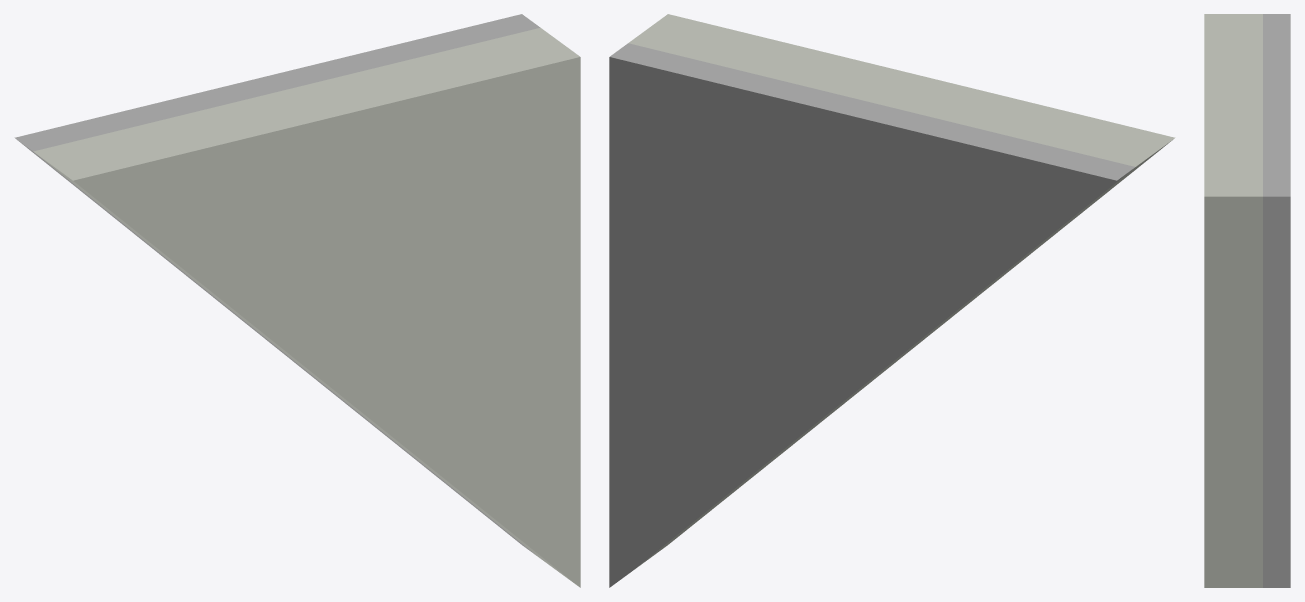
The model's file is floor_triangle.fbx.
3 views of the same model, side by side, from view 1: azimuth 30°, elevation 25°; view 2: azimuth 150°, elevation 25°; view 3: azimuth 270°, elevation 25° (orthographic). The views are drawn at different scales.
Visible parts, largest first — view 1: Floor 01; view 2: Floor 01; view 3: Floor 01.
Boxes of the visible parts, left/top/right/bottom form: Floor 01: left=14, top=14, right=580, bottom=587; Floor 01: left=609, top=14, right=1175, bottom=587; Floor 01: left=1204, top=14, right=1290, bottom=587.
Bounding box in the file's own units: 200 × 200 × 40.
